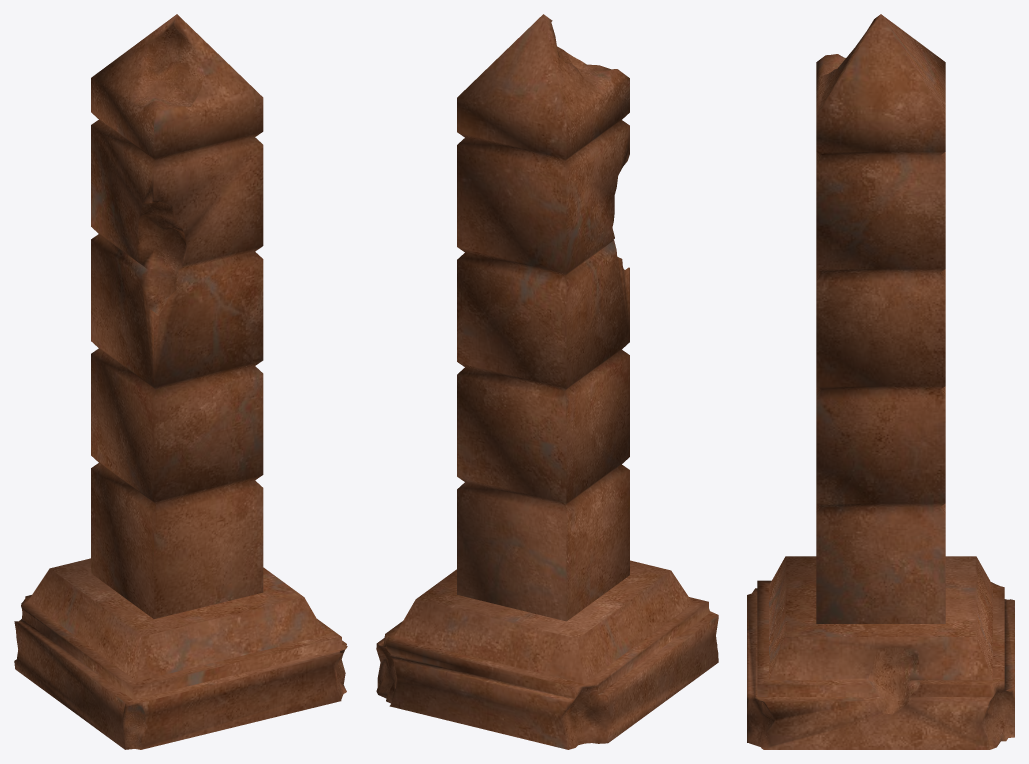
The model's file is obelisk_destroy_512_04.glb.
3 renders of one model, left to right at view 1: azimuth 30°, elevation 25°; view 2: azimuth 150°, elevation 25°; view 3: azimuth 270°, elevation 25°, orthographic. The views are drawn at different scales.
Visible parts, largest first — view 1: obelisk_destroy_512_04; view 2: obelisk_destroy_512_04; view 3: obelisk_destroy_512_04.
Part boxes in pixels (x1=…): obelisk_destroy_512_04: x1=14, y1=14, x2=347, y2=749; obelisk_destroy_512_04: x1=376, y1=14, x2=718, y2=749; obelisk_destroy_512_04: x1=747, y1=14, x2=1014, y2=749.
Size of the model in its own units: 1.04 by 2.9 by 1.04.
Materials: 1 (1 with a texture image).
